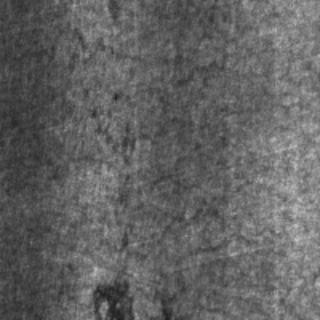crazing: (109, 107, 235, 260), (42, 19, 236, 92)
